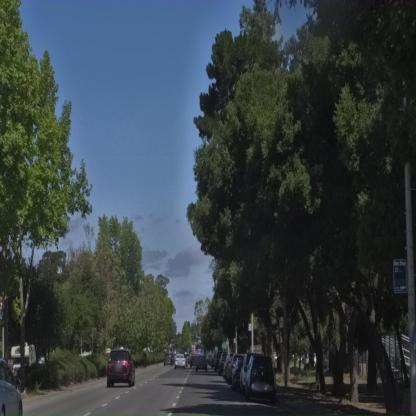car: (240, 354, 278, 404), (0, 355, 31, 416), (107, 349, 136, 386), (229, 354, 247, 389), (188, 353, 208, 371), (215, 353, 228, 373), (174, 354, 185, 368)
truck: (11, 347, 42, 382)
